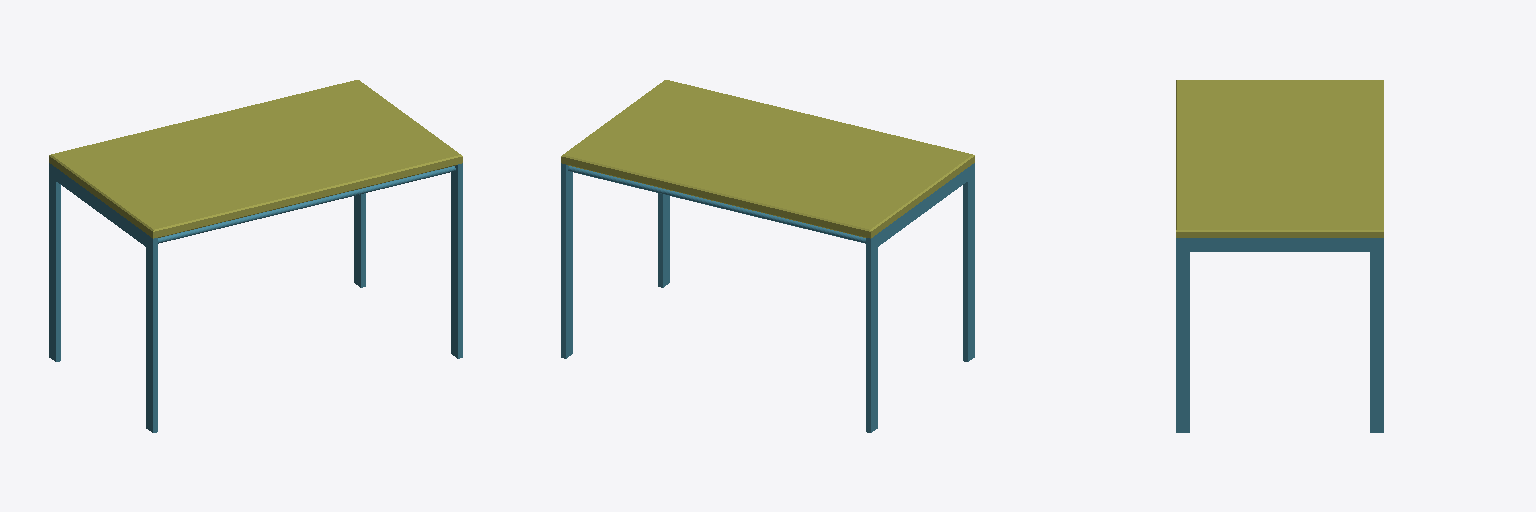
File: tavolo.obj
3 renders of one model, left to right at view 1: azimuth 30°, elevation 25°; view 2: azimuth 150°, elevation 25°; view 3: azimuth 270°, elevation 25°, orthographic.
Size of the model in its own units: 1.2 by 0.75 by 0.7.